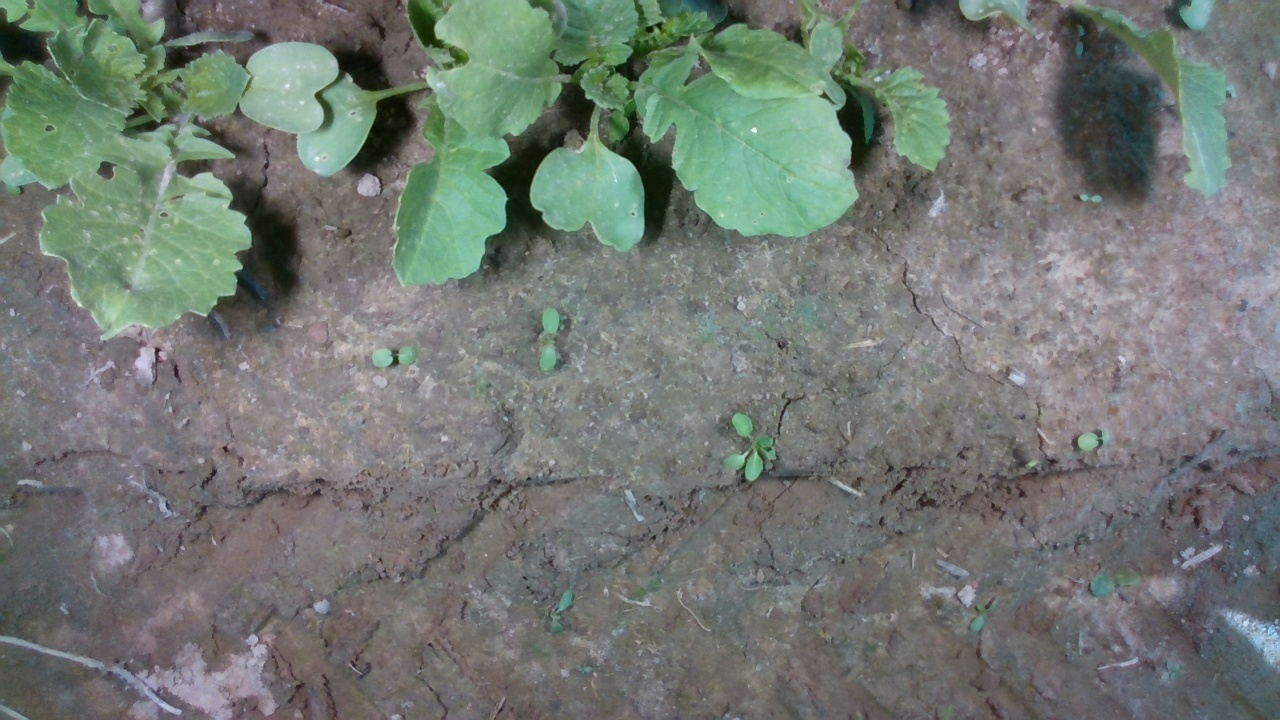weed: (538, 306, 560, 374), (1076, 424, 1116, 452), (370, 345, 417, 367)
